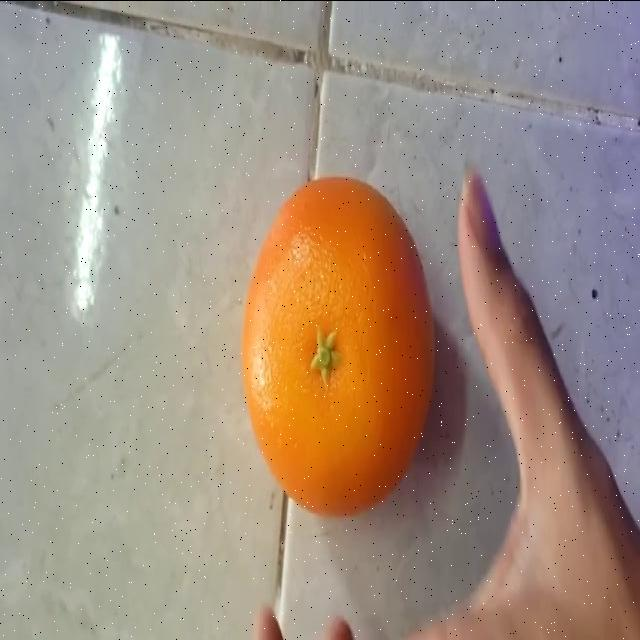Orange: (239, 175, 436, 519)
